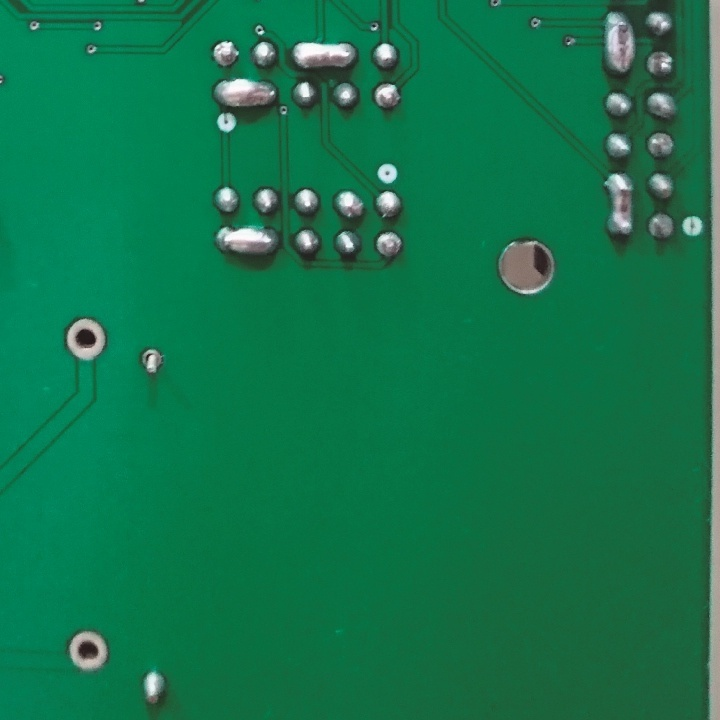F: (60, 317, 107, 366), (64, 629, 110, 677), (646, 46, 679, 81), (645, 209, 678, 243), (646, 127, 678, 160), (211, 40, 244, 69), (138, 346, 167, 378), (375, 230, 404, 260), (372, 82, 403, 109)
P: (602, 6, 636, 84), (287, 37, 359, 72), (215, 225, 283, 260), (603, 169, 636, 240), (213, 78, 278, 109)
